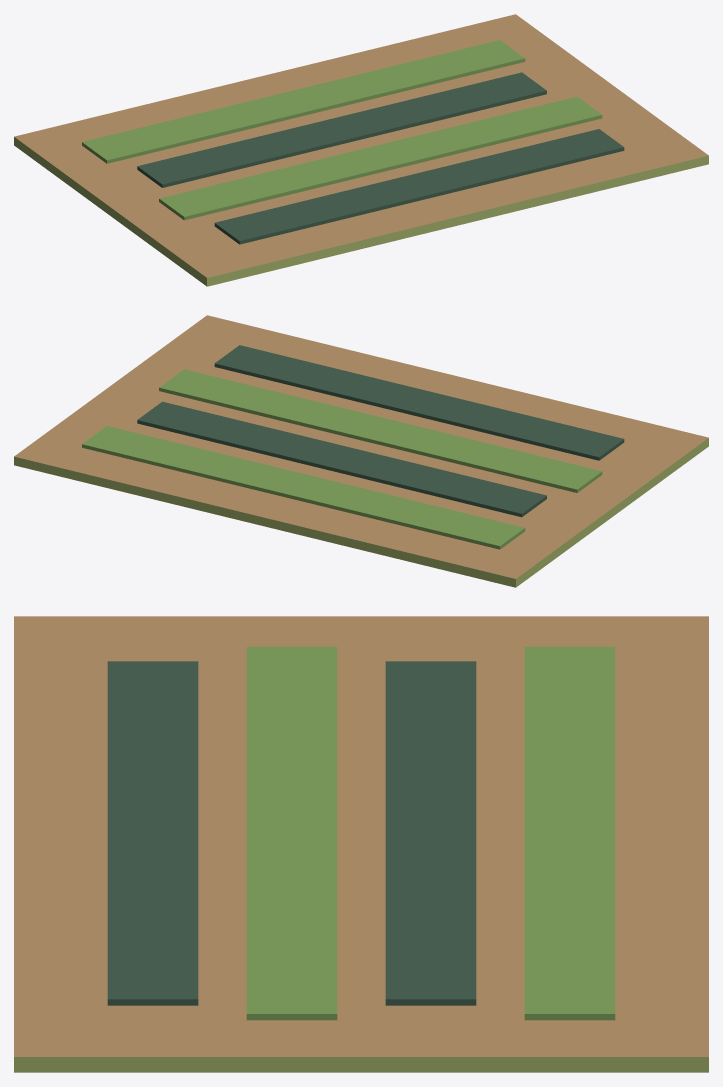
File: garden-vegetables.glb
The picture shows the model from 3 angles, top to bottom: view 1: azimuth 30°, elevation 25°; view 2: azimuth 150°, elevation 25°; view 3: azimuth 270°, elevation 25°; orthographic projection. The views are drawn at different scales.
Visible parts, largest first — view 1: garden-vegetables; view 2: garden-vegetables; view 3: garden-vegetables.
Boxes of the visible parts, bbox=[...] form: garden-vegetables: bbox=[14, 14, 708, 286]; garden-vegetables: bbox=[14, 315, 708, 587]; garden-vegetables: bbox=[14, 616, 708, 1072].
Bounding box in the file's own units: 3 × 0.07 × 2.
1 material, 1 textured.
